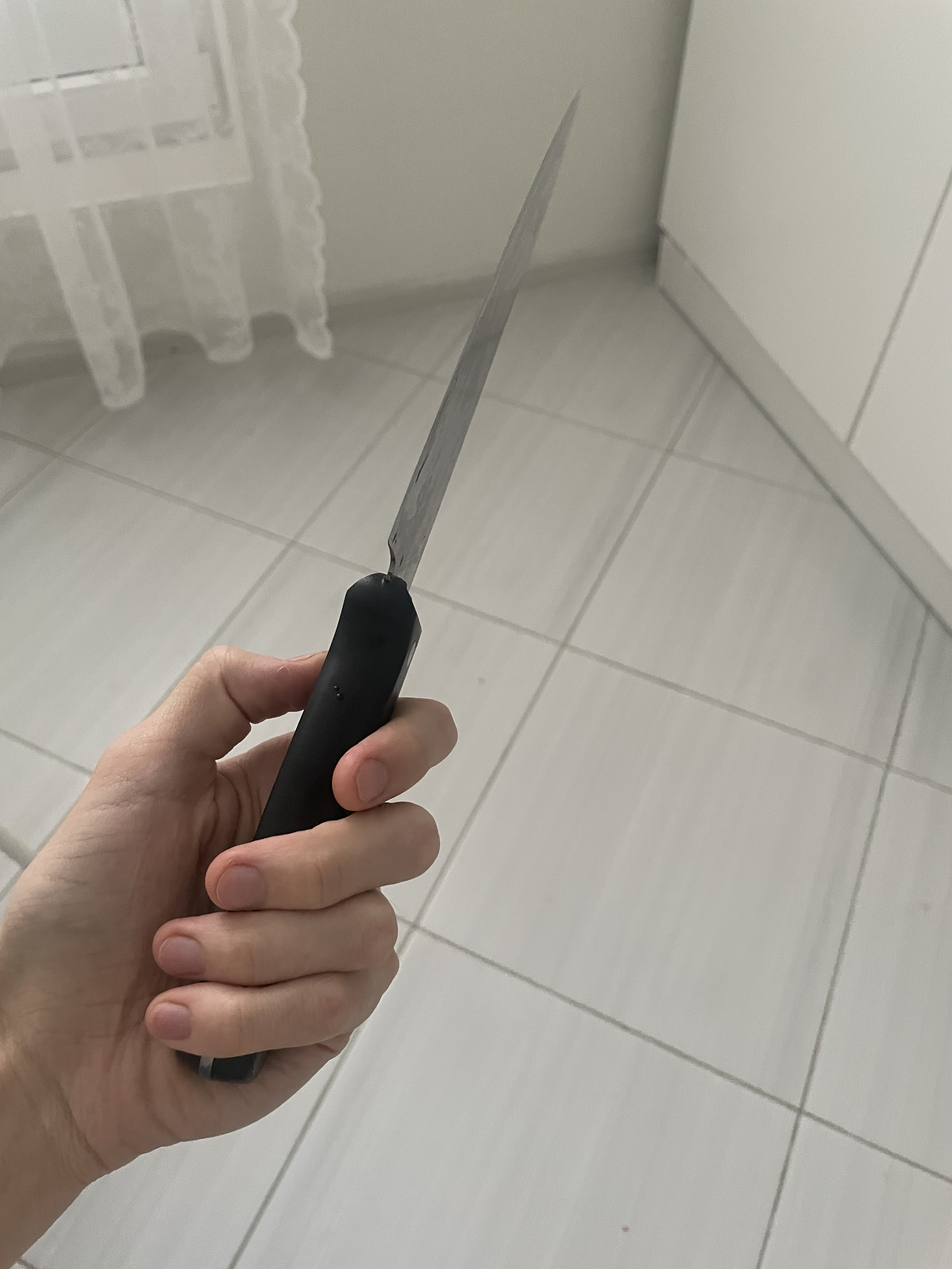knife: (255, 95, 579, 839)
